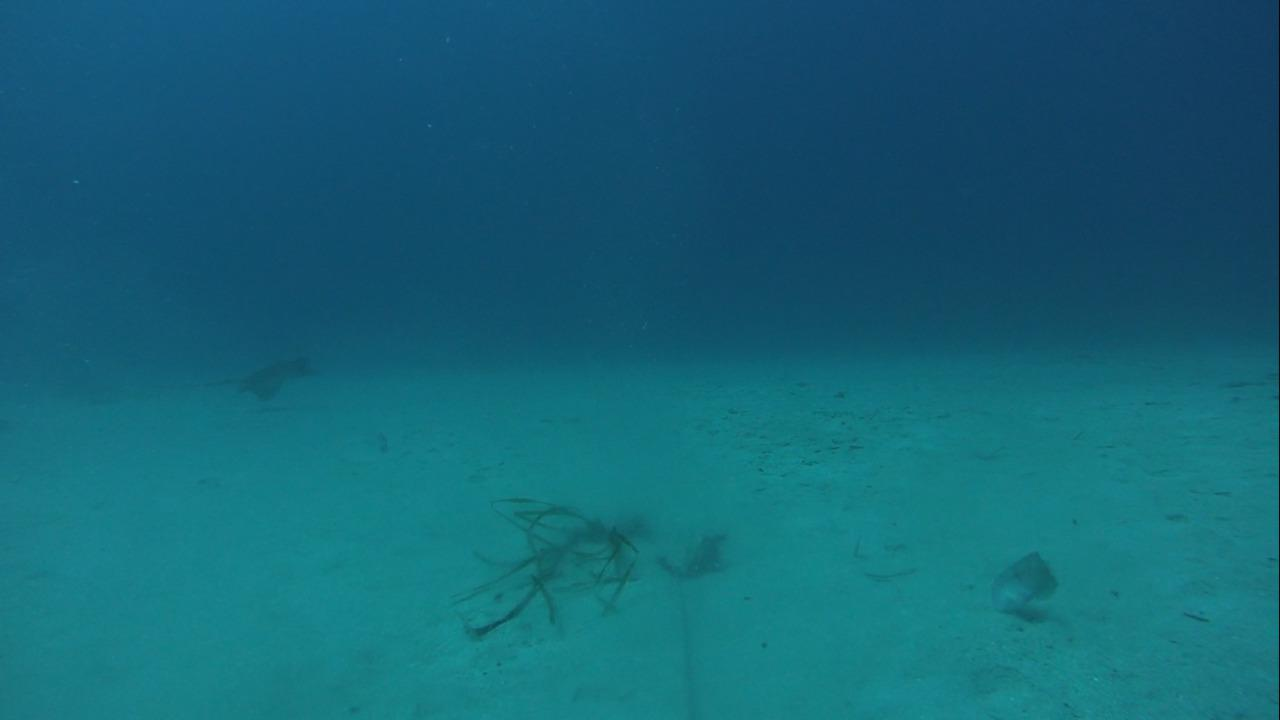myliobatis: (160, 343, 330, 407)
raor: (981, 541, 1064, 617)
